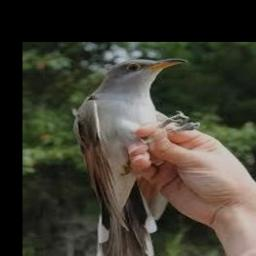Cuckoo: (73, 58, 196, 256)
